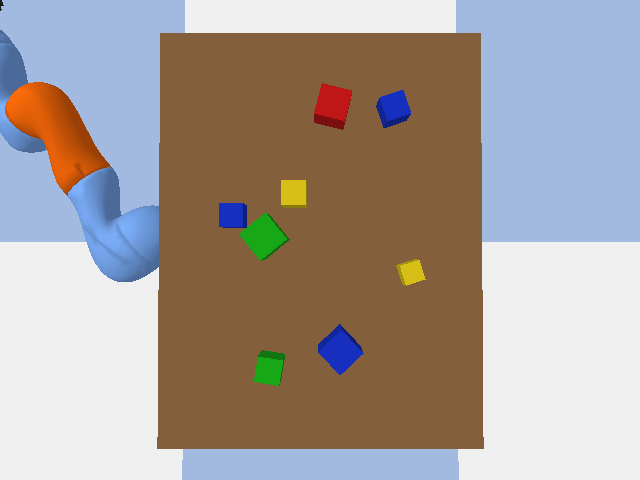blue_obj: (318, 324, 363, 374), (376, 90, 410, 127), (219, 203, 246, 227)
green_obj: (239, 213, 289, 260), (254, 350, 284, 385)
red_obj: (314, 83, 351, 129)
yellow_obj: (396, 259, 425, 285), (281, 180, 306, 207)
